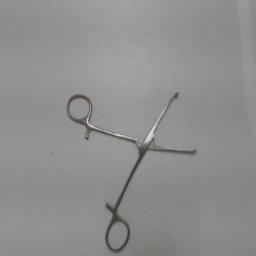Allis Tissue Forceps: (63, 87, 201, 255)
